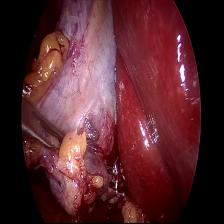Grasper: (22, 95, 68, 164)
